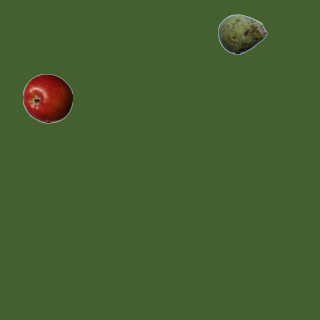Apple Braeburn: (22, 73, 72, 123)
Pear Stone: (217, 9, 267, 59)
